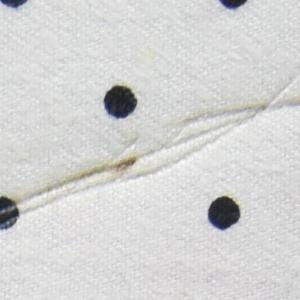Oil Stain: (1, 155, 145, 212), (162, 93, 300, 131)
Wrinkle: (1, 70, 300, 231)
